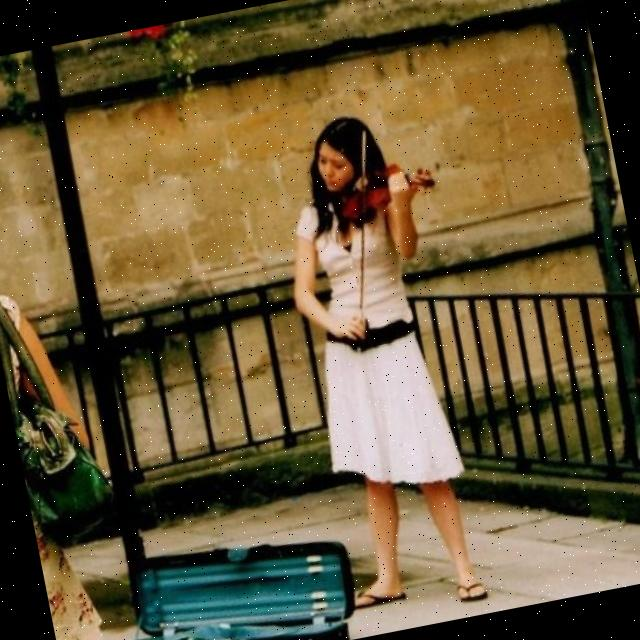violin: (331, 153, 441, 235)
